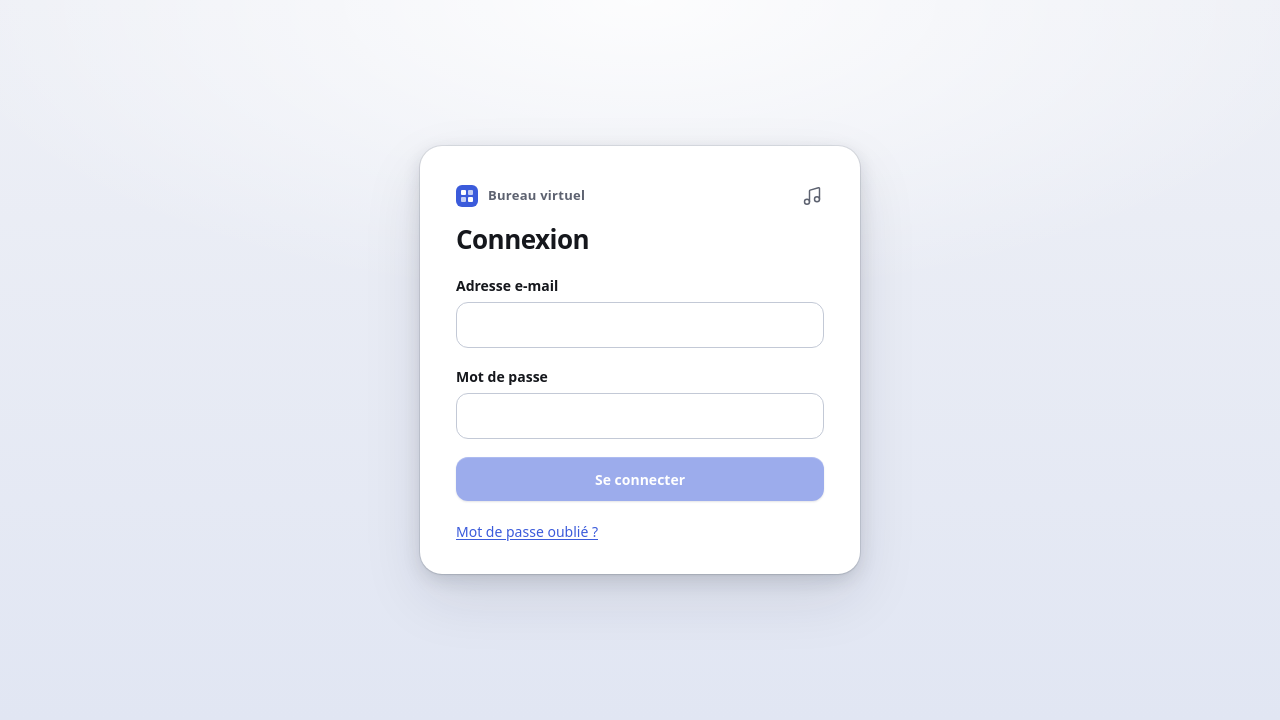
connexion → le bureau
Type " lea@x.fr " into the field labelled "Adresse e-mail" at (640, 325), box 456,302 -> 824,348
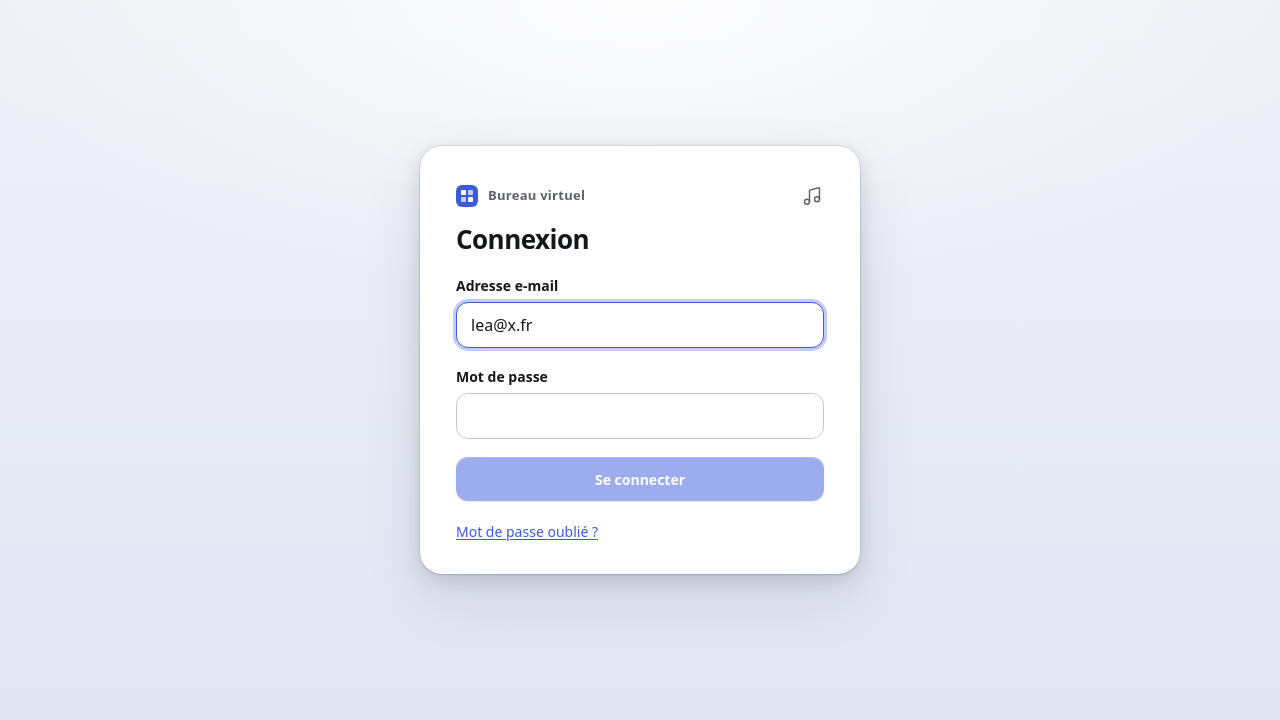
Type "motdepasse1" into the password field labelled "Mot de passe" at (640, 416), box 456,393 -> 824,439
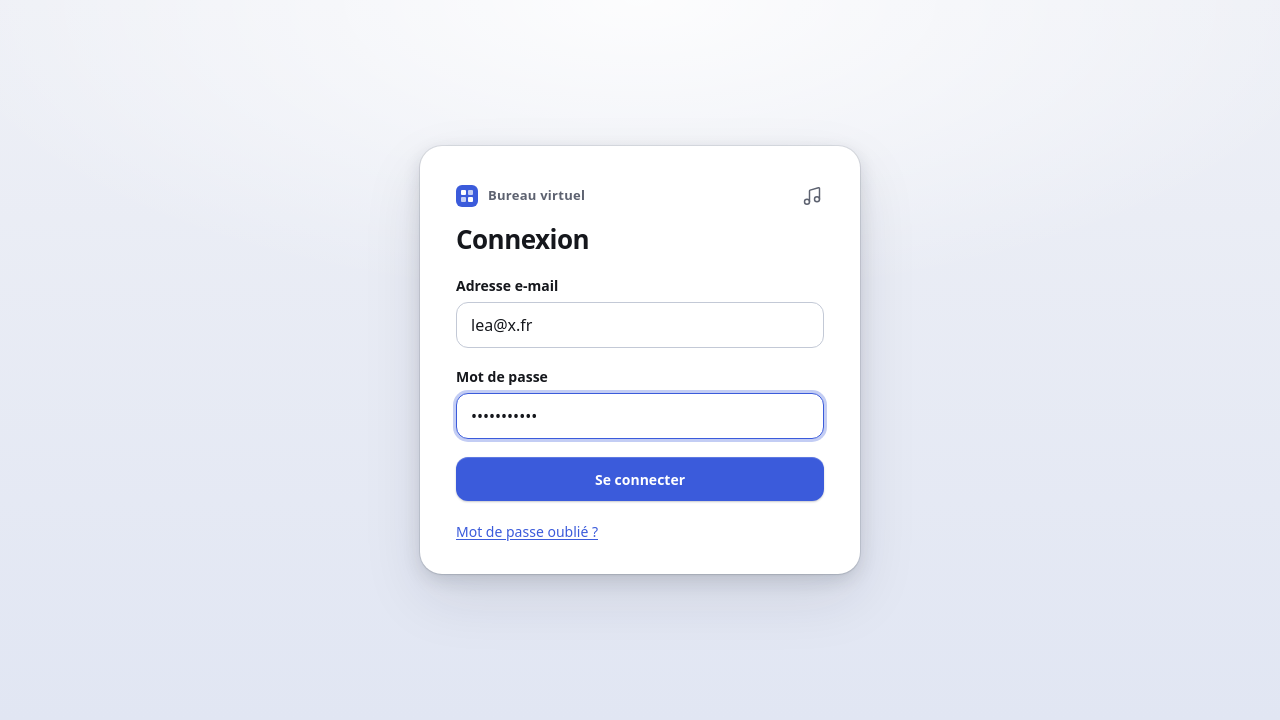
Click the button "Se connecter" at (640, 479), box 456,457 -> 824,501
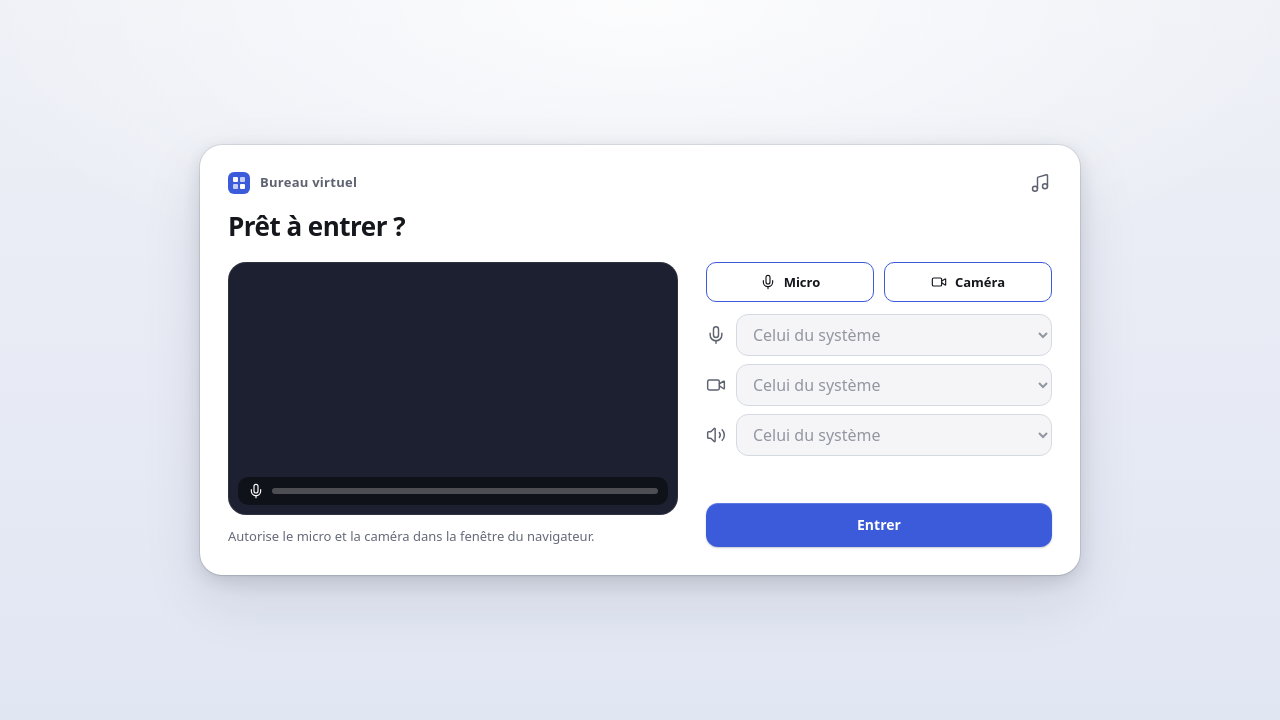
Click the button "Entrer" at (879, 525), box 706,503 -> 1052,547
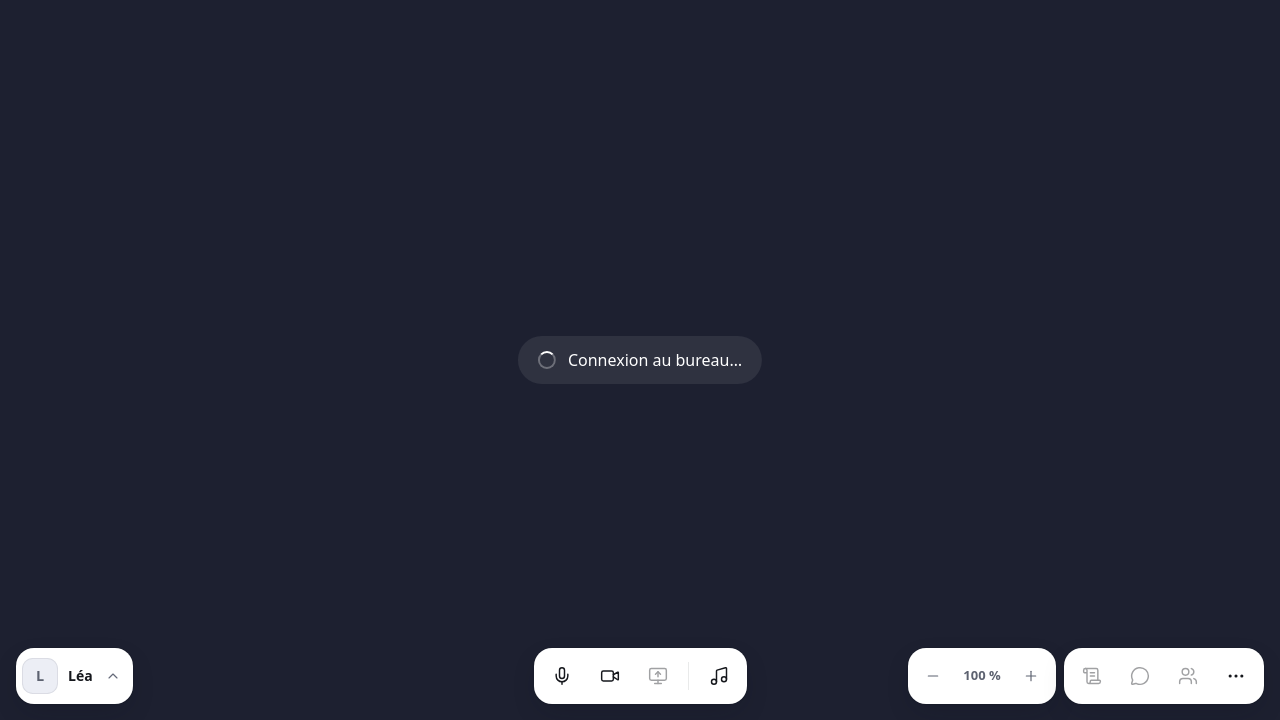
expect the text "Léa" is shown: met, box 68,667 -> 93,685
